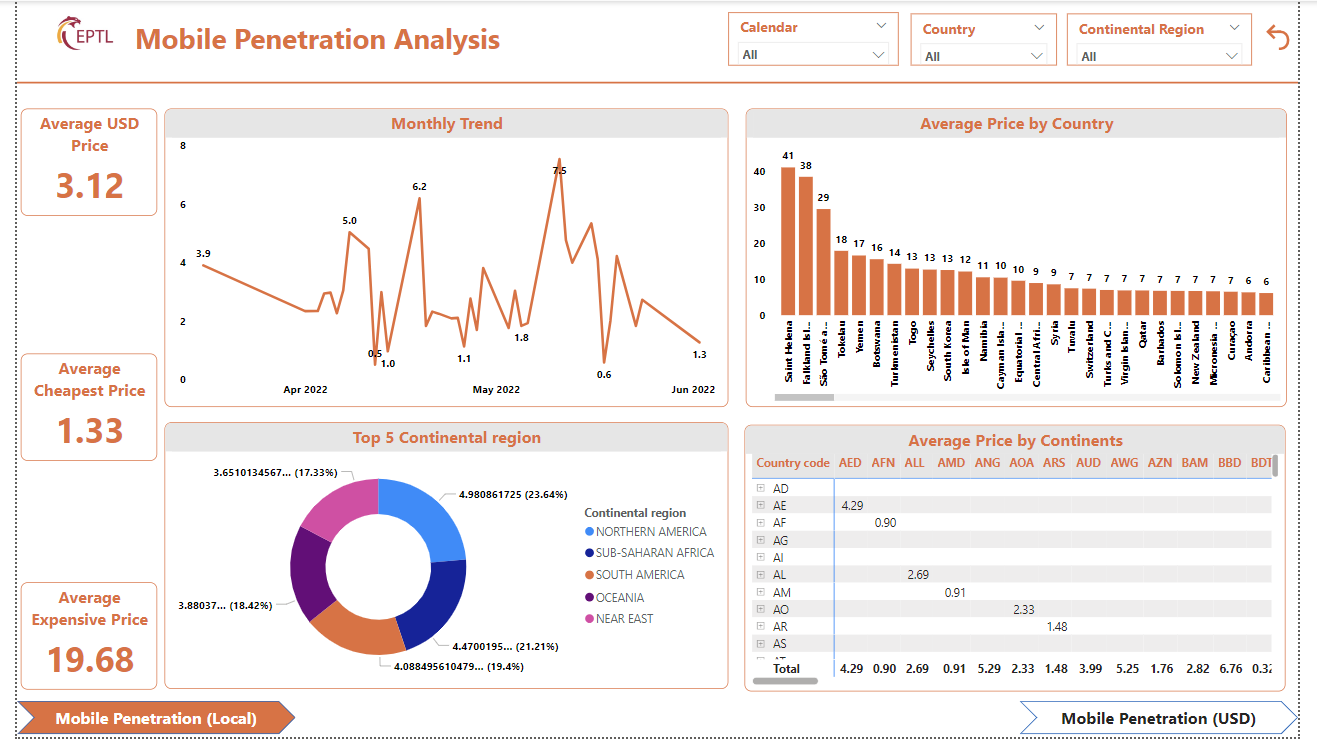

This screenshot's page, from the dashboard's own definition file:
{"tool":"powerbi","page":{"name":"Mobile Penetration (USD)","canvas":[1480,850],"ordinal":1},"visuals":[{"type":"slicer","fields":{"Values":["2022 1GB Mobile data cost.Sample date.Variation.Date Hierarchy.Year","2022 1GB Mobile data cost.Sample date.Variation.Date Hierarchy.Quarter","2022 1GB Mobile data cost.Sample date.Variation.Date Hierarchy.Month","2022 1GB Mobile data cost.Sample date.Variation.Date Hierarchy.Day"]},"box":[821.7,13.3,196.7,61.7],"z":0},{"type":"slicer","fields":{"Values":["2022 1GB Mobile data cost.Name"]},"box":[1031.5,13.9,168.6,60.3],"z":1000},{"type":"slicer","fields":{"Values":["2022 1GB Mobile data cost.Continental region"]},"box":[1212.5,13.9,213.4,60.3],"z":2000},{"type":"columnChart","title":"Average Price by Country","fields":{"Category":["2022 1GB Mobile data cost.Name"],"Y":["All Measures.Average USD Price"]},"box":[841.3,123.7,624.8,344.9],"z":3000},{"type":"shape","box":[0,88.2,1480,12.4],"z":4000},{"type":"lineChart","title":"Monthly Trend","fields":{"Category":["2022 1GB Mobile data cost.Sample date"],"Y":["All Measures.Average USD Price"]},"box":[170.1,123.7,651.1,344.9],"z":5000},{"type":"textbox","box":[131.5,15.5,470.1,58.8],"z":6000},{"type":"image","box":[0,0,157.7,74.2],"z":7000},{"type":"donutChart","title":"Top 5 Continental region","fields":{"Category":["2022 1GB Mobile data cost.Continental region"],"Y":["All Measures.Average USD Price"]},"box":[170.1,487.1,651.1,307.8],"z":8000},{"type":"card","title":"Average USD Price","fields":{"Values":["All Measures.Average USD Price"]},"box":[4.6,123.7,157.7,123.7],"z":10000},{"type":"card","title":"Average Cheapest Price","fields":{"Values":["All Measures.Average Cheapest Price"]},"box":[4.6,406.7,157.7,123.7],"z":11000},{"type":"card","title":"Average Expensive Price","fields":{"Values":["All Measures.Average Expensive Price(USD)"]},"box":[4.6,671.2,157.7,123.7],"z":12000},{"type":"shape","box":[0,808.3,321.7,38.3],"z":13000},{"type":"shape","box":[1158.3,808.3,321.7,38.3],"z":14000},{"type":"actionButton","box":[1436.7,21.7,43.3,40],"z":15000},{"type":"pivotTable","title":"Average Price by Continents","fields":{"Rows":["2022 1GB Mobile data cost.Country code","2022 1GB Mobile data cost.Continental region","2022 1GB Mobile data cost.Sample date"],"Columns":["2022 1GB Mobile data cost.Currency"],"Values":["All Measures.Average USD Price"]},"box":[839.7,488.7,624.8,307.8],"z":15001}]}

Visuals, with their boxes in screenshot pixels (x1, y1, x2, y2), scaled from the page's 1480x850 canvas onto the 1317x740 screenshot:
slicer - 2022 1GB Mobile data cost.Sample date.Variation.Date Hierarchy.Year x 2022 1GB Mobile data cost.Sample date.Variation.Date Hierarchy.Quarter: 731,12,906,65
slicer - 2022 1GB Mobile data cost.Name: 918,12,1068,65
slicer - 2022 1GB Mobile data cost.Continental region: 1079,12,1269,65
"Average Price by Country" columnChart: 749,108,1305,408
shape: 0,77,1316,88
"Monthly Trend" lineChart: 151,108,731,408
textbox: 117,13,535,65
image: 0,0,140,65
"Top 5 Continental region" donutChart: 151,424,731,692
"Average USD Price" card: 4,108,144,215
"Average Cheapest Price" card: 4,354,144,462
"Average Expensive Price" card: 4,584,144,692
shape: 0,704,286,737
shape: 1031,704,1316,737
actionButton: 1278,19,1316,54
"Average Price by Continents" pivotTable: 747,425,1303,693
